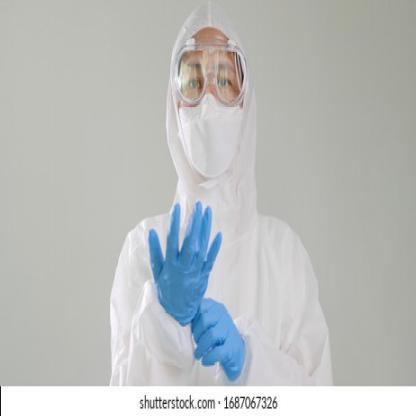with_gloves: (147, 198, 221, 326), (191, 296, 246, 383)
